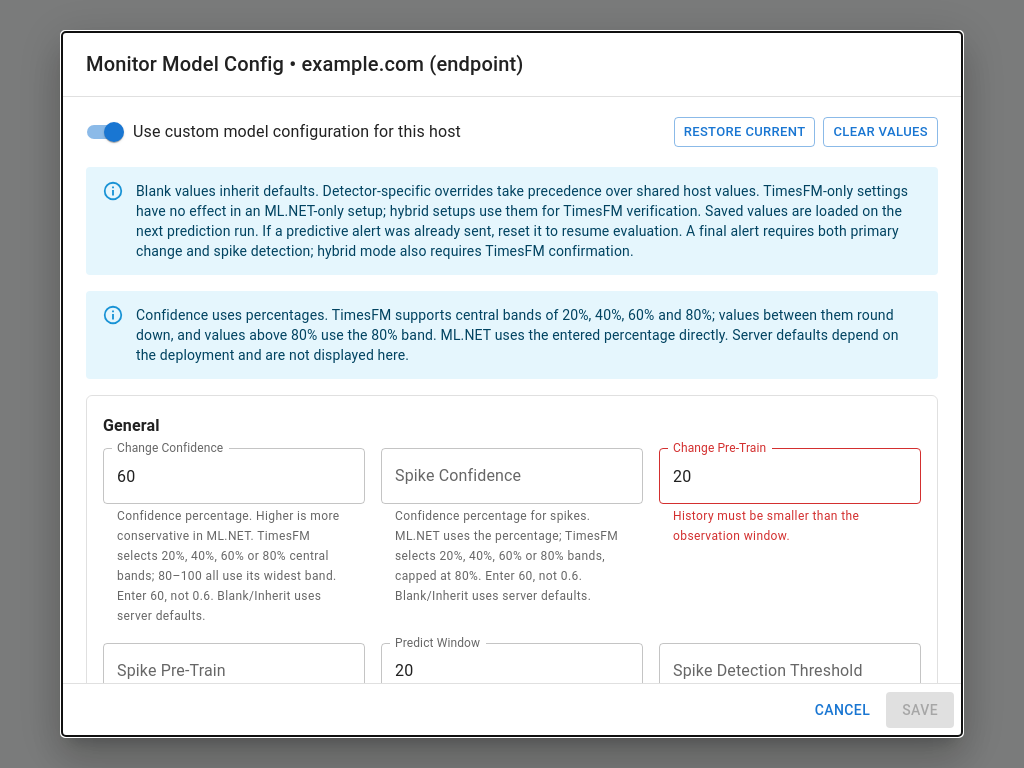
Test case: prevents saving invalid combinations and fractional confidence entry
The width and height of the screenshot is (1024, 768).
Replace the text in the number field labelled "Change Confidence" with "0.6" at (234, 476), box [103,448,365,504]
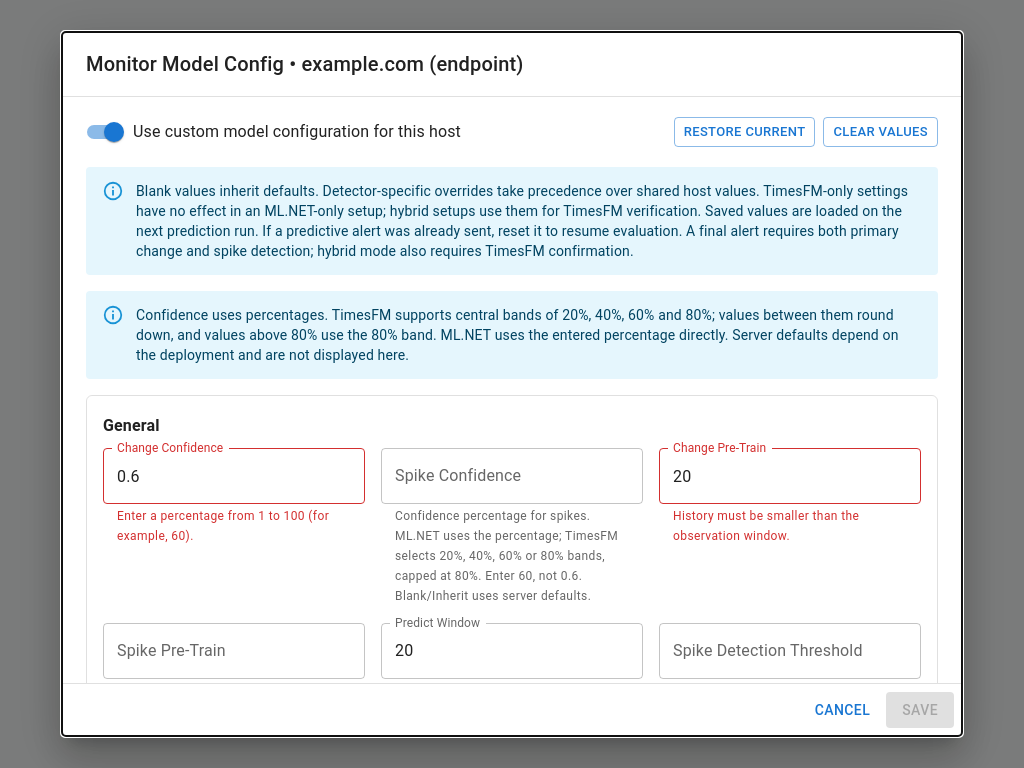
Expected: the text "History must be smaller than the observation window." is shown, [673,509,859,543]
Result: the text "Enter a percentage from 1 to 100 (for example, 60)." is shown at [117,507,351,547]
